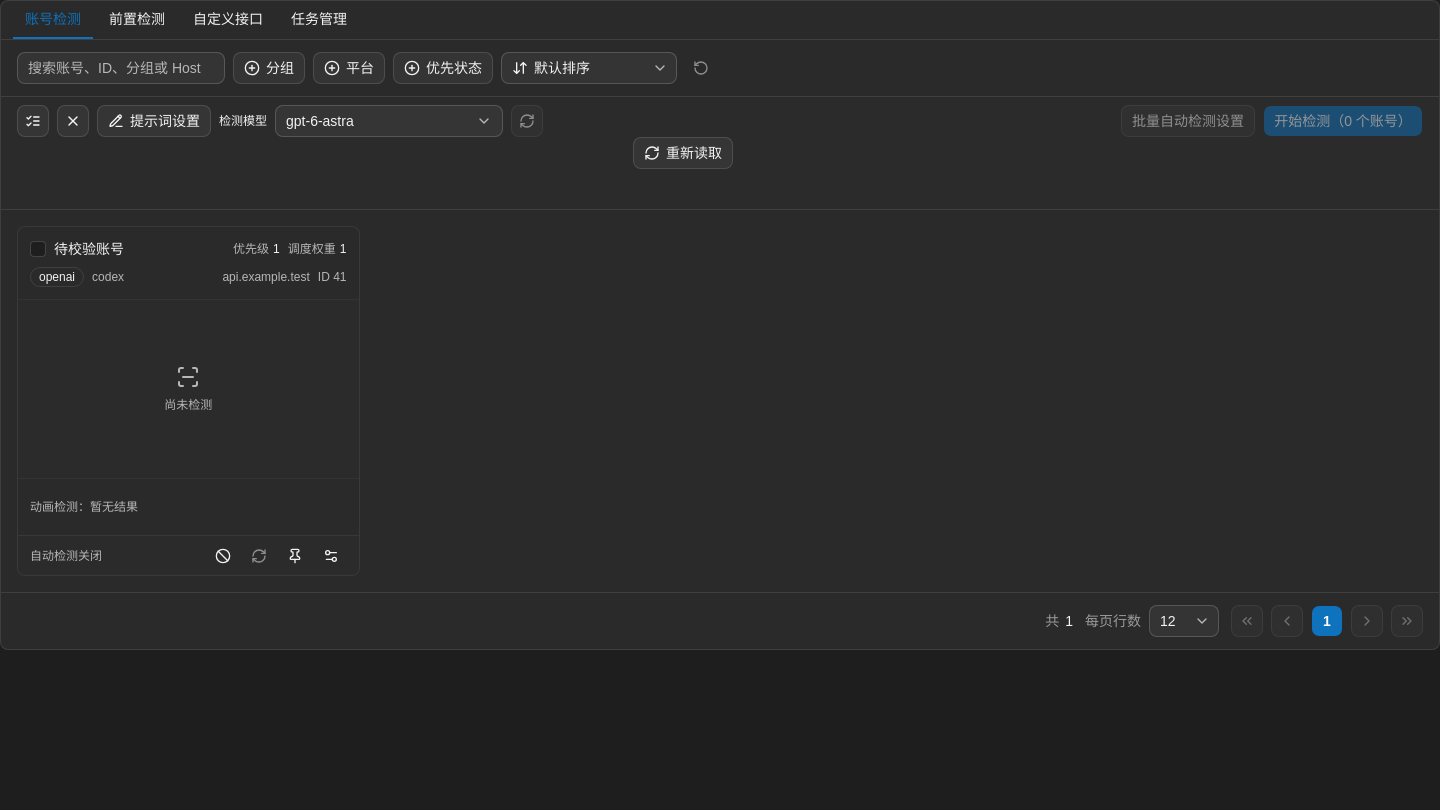
Test case: 账号检测 卡片确认熔断后按稳定 ID 提交任务，完成后显示恢复入口
This screenshot has width=1440, height=810.
Click the tab "账号检测": coordinates (53, 20) [13,1,93,39]
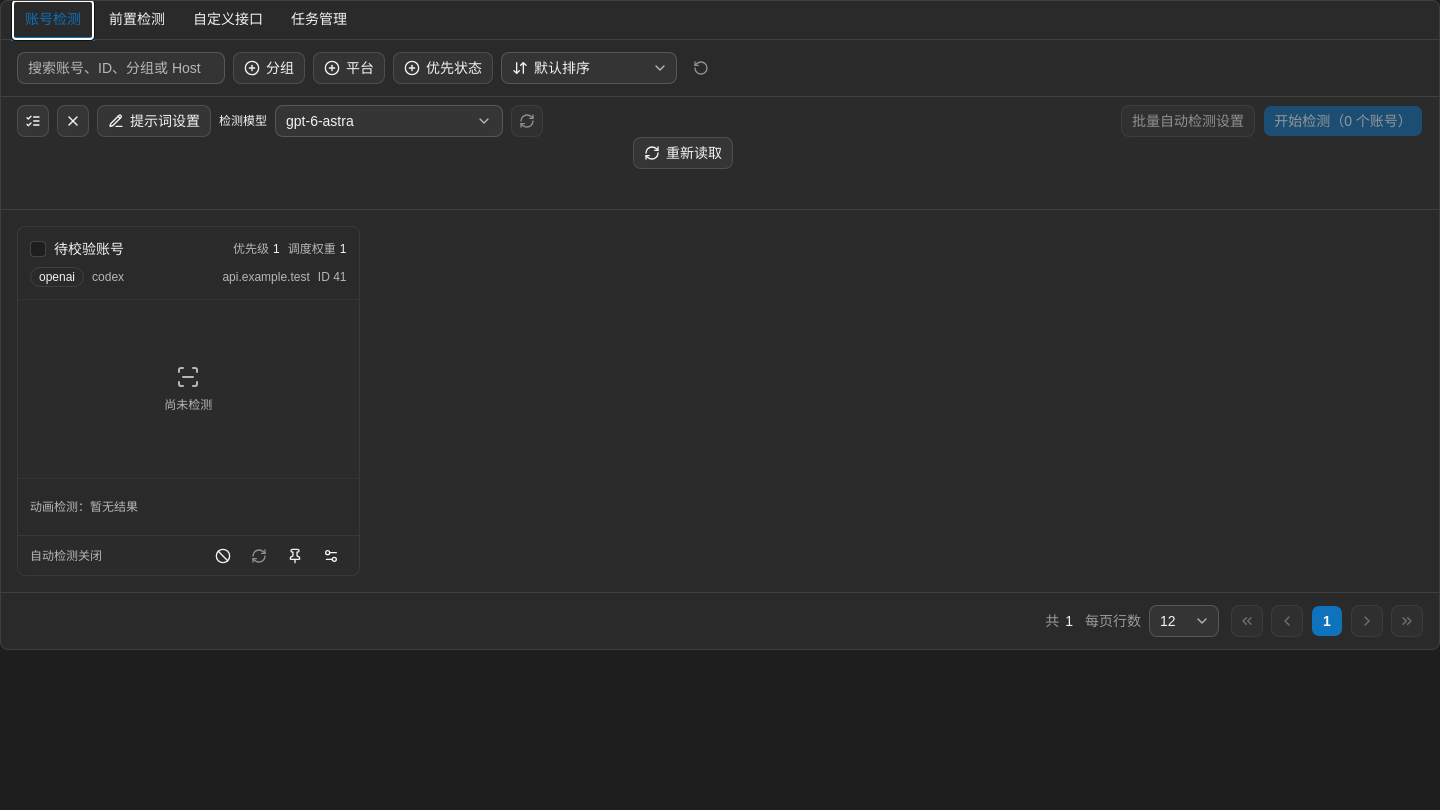
Click the button named "手动熔断": coordinates (222, 556) [206,540,238,572]
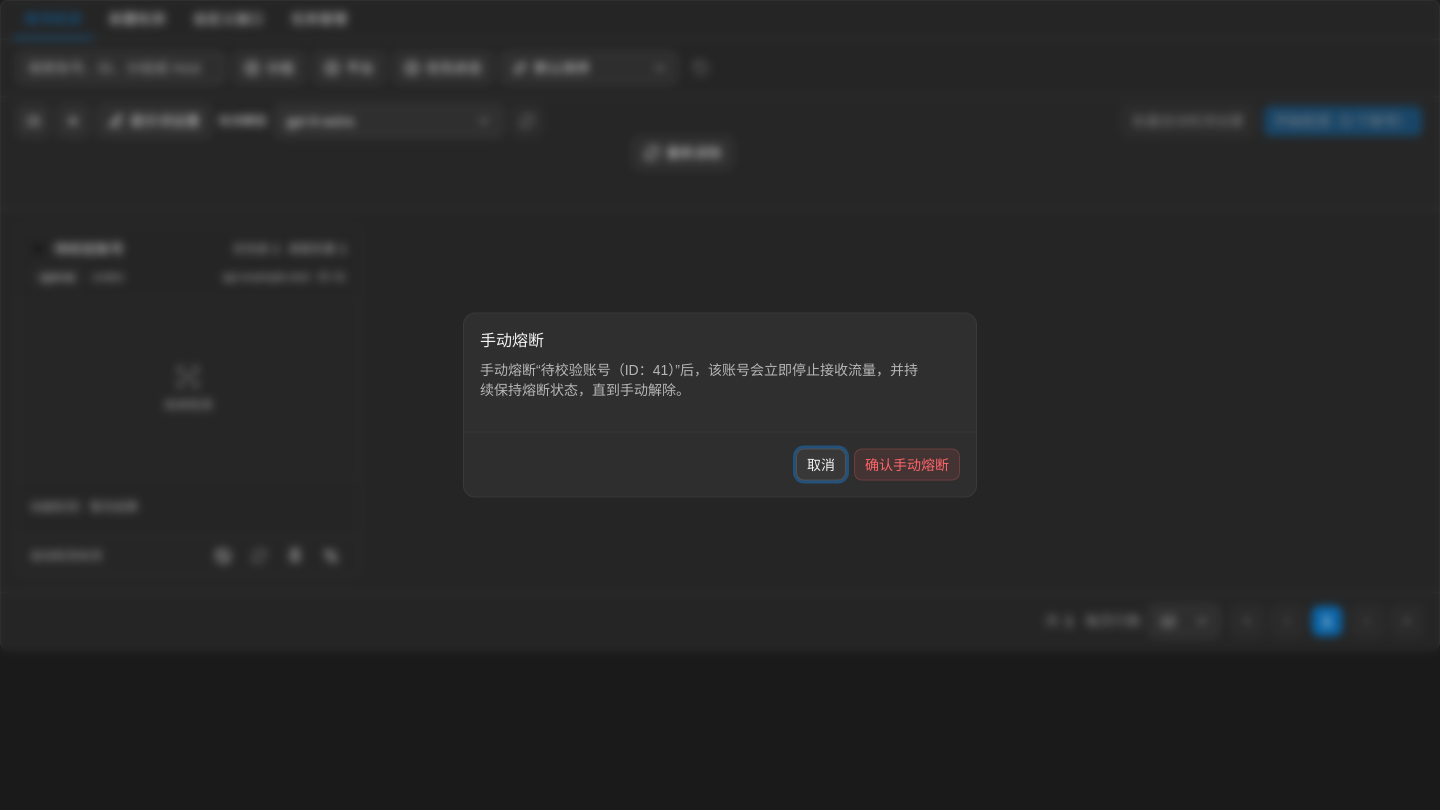
expect the dialog "手动熔断" shows "ID：41": met, box [480,362,918,398]
expect the button "确认手动熔断" is enabled: met
Click the button "确认手动熔断": coordinates (907, 464) [854,448,960,480]
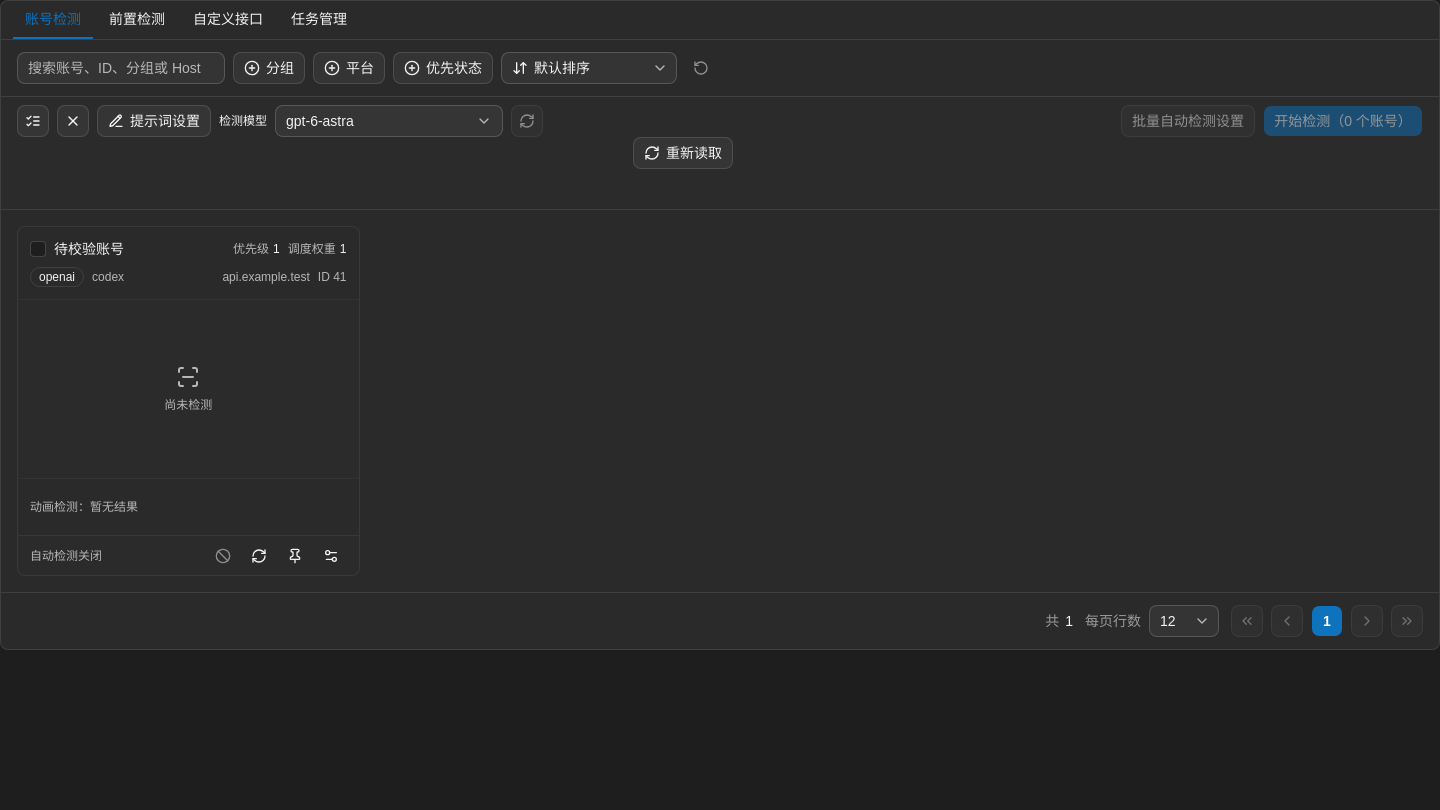
expect the button named "手动熔断" is disabled: met, box [206,540,238,572]
expect the button named "解除熔断" is enabled: met, box [242,540,274,572]
